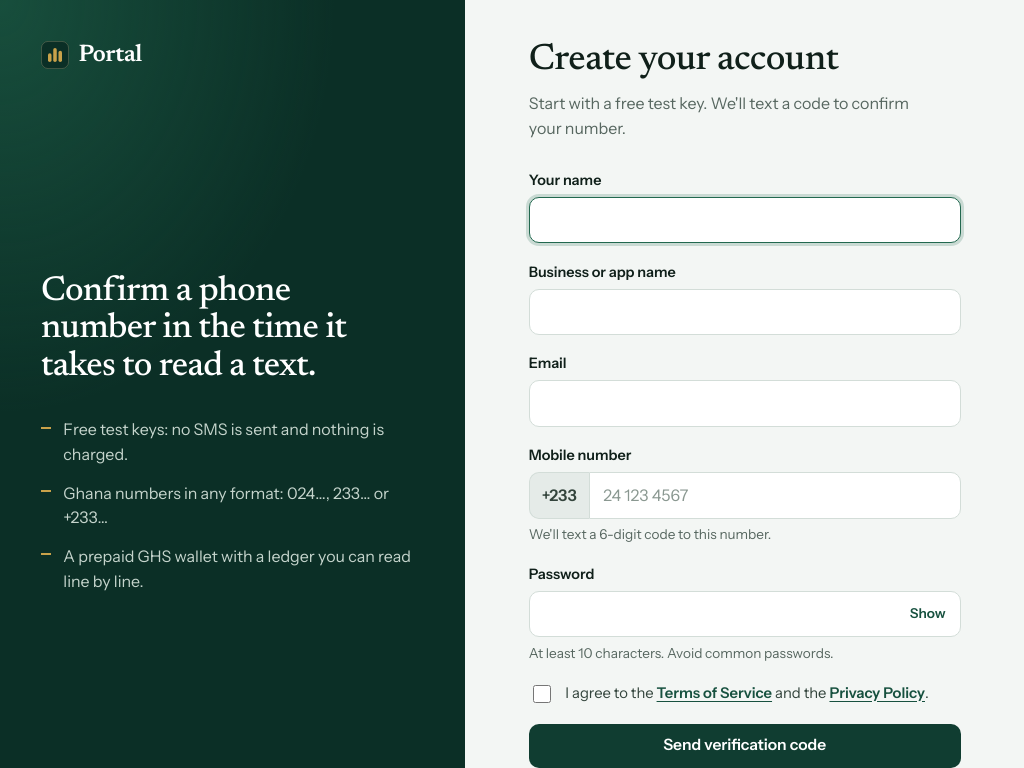
Scenario: Signup terms › asks for a refresh if the terms changed while the form was open
Type "Ama Mensah" into the field labelled "Your name" at coordinates (745, 220), box 529,197 -> 961,243
Type "Adom Bakery" into the field labelled "Business or app name" at coordinates (745, 312), box 529,288 -> 961,335
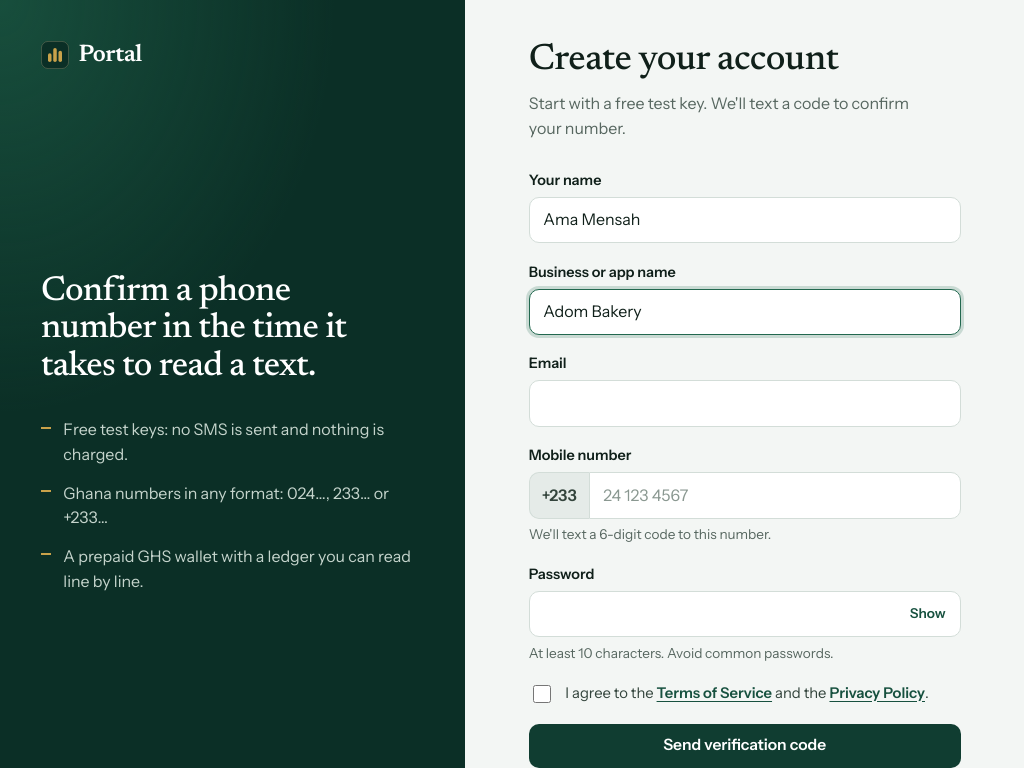
Type "ama@example.com" into the field labelled "Email" at coordinates (745, 404), box 529,380 -> 961,427
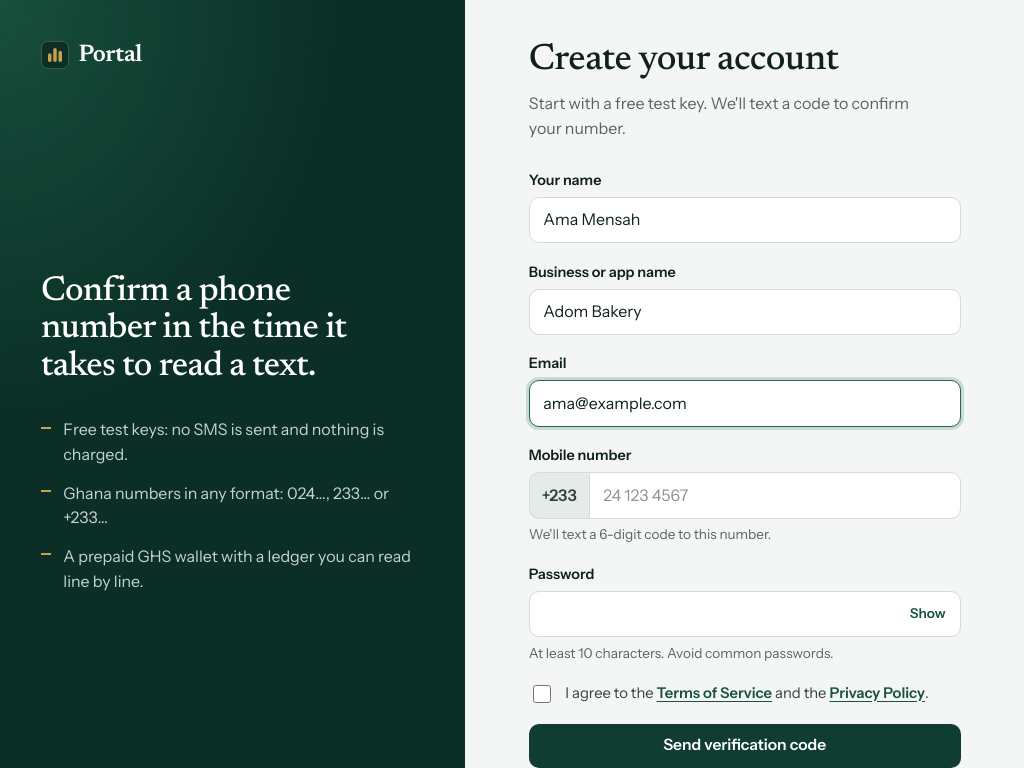
Type "0241234567" into the field labelled "Mobile number" at coordinates (775, 496), box 589,472 -> 961,519
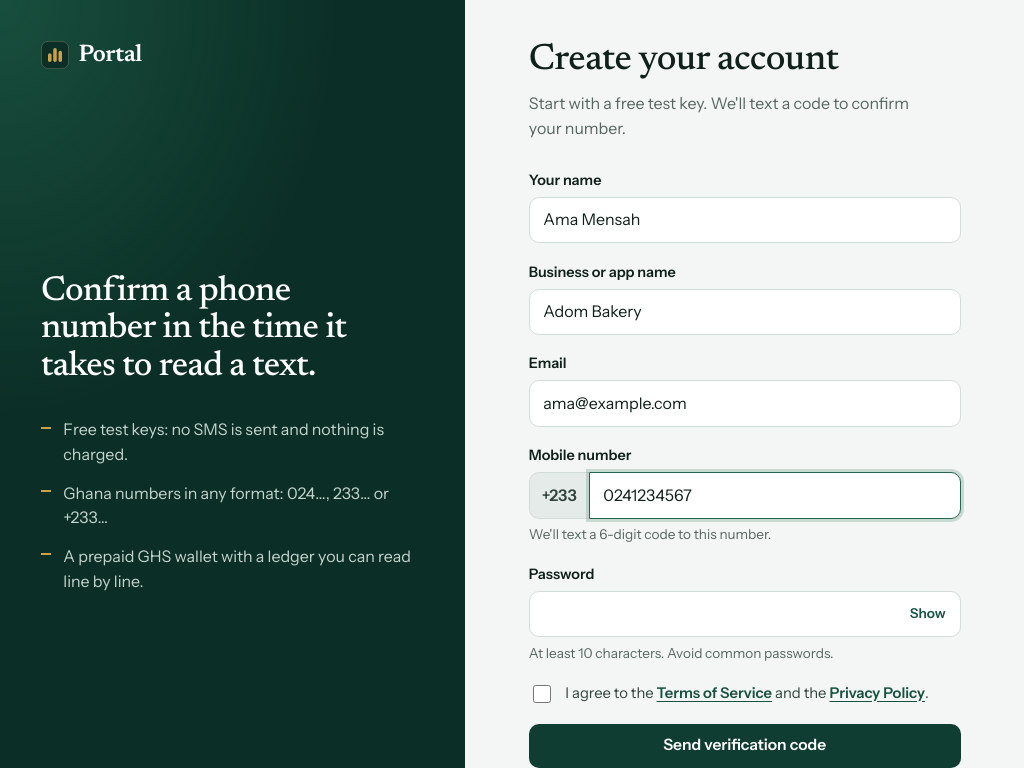
Type "Correct-horse-9" into the password field labelled "Password" at coordinates (745, 614), box 529,591 -> 961,637
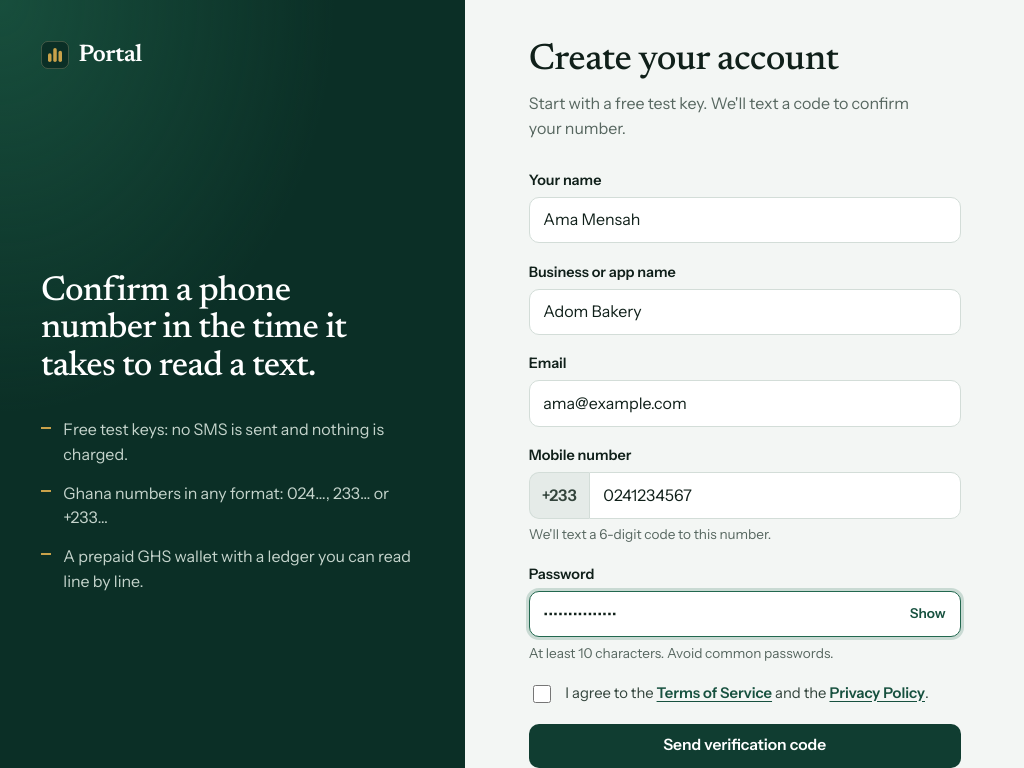
Click the checkbox labelled "I agree to the Terms of Service and the Privacy Policy ." at coordinates (542, 694), box 533,685 -> 551,703
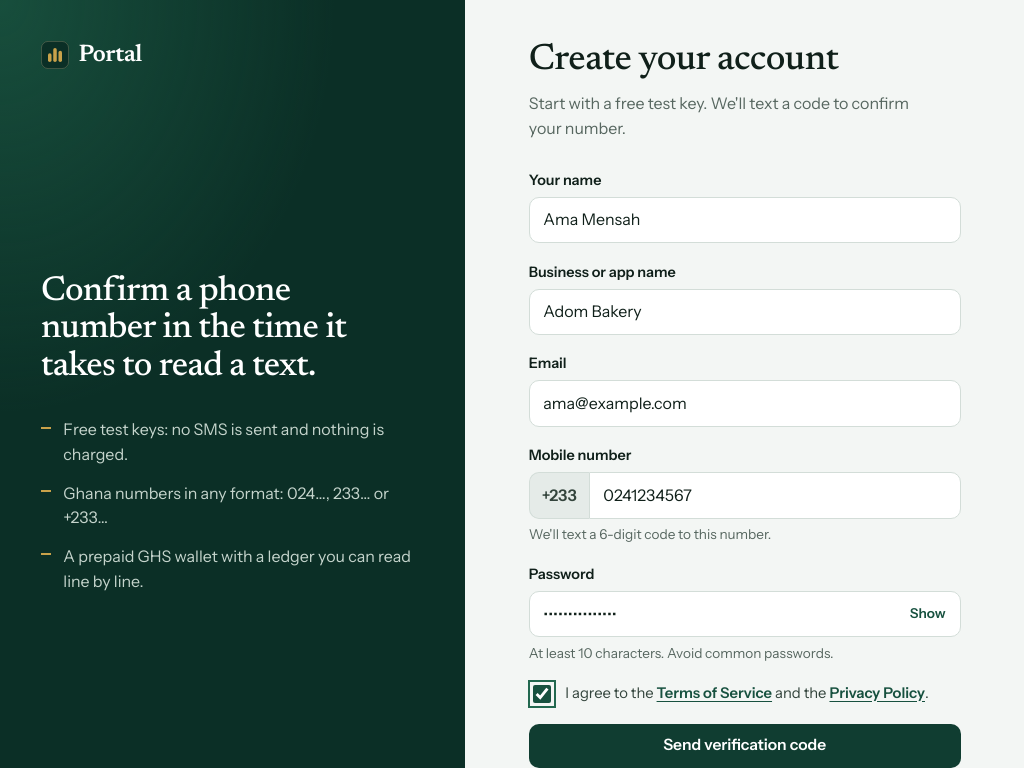
Click the button "Send verification code" at coordinates (745, 746), box 529,724 -> 961,767
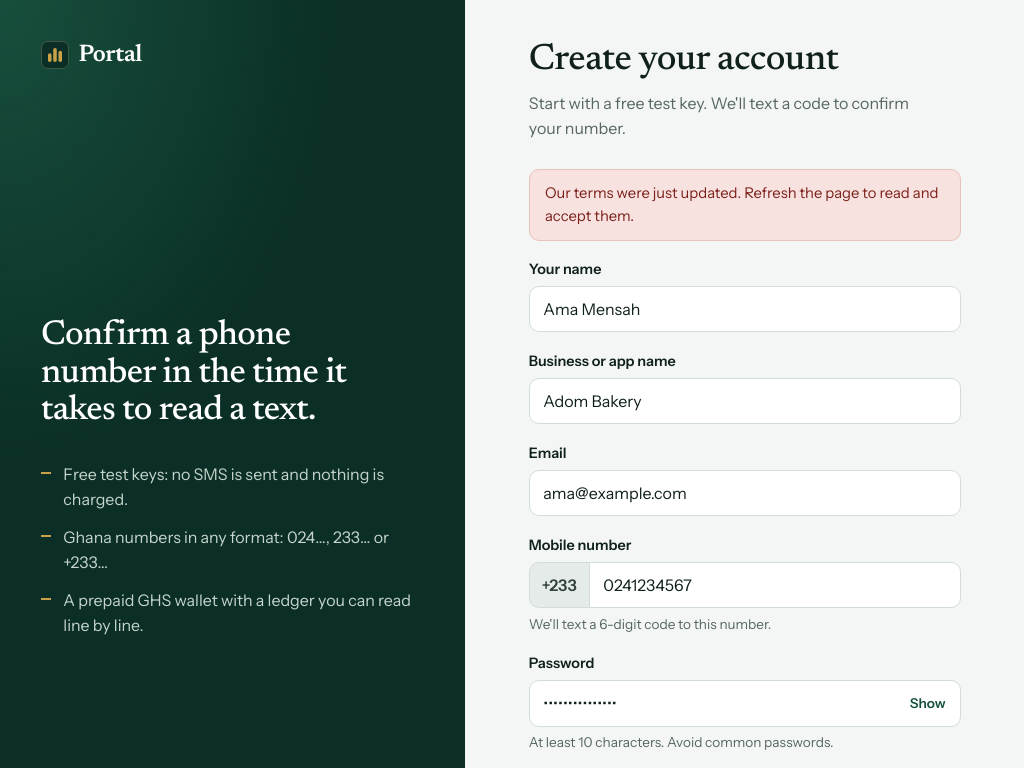
Now the message shows "Refresh the page", box 545,184 -> 938,225
